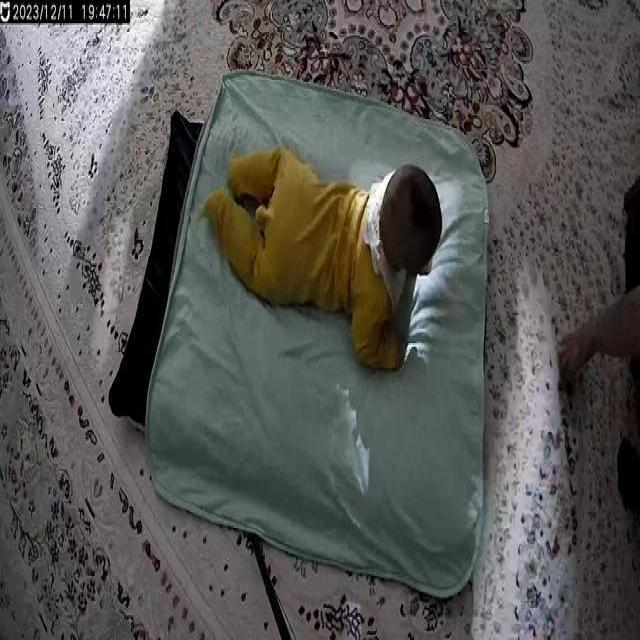baby: (205, 143, 444, 377)
